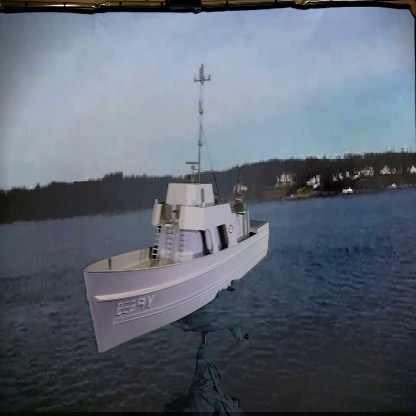YP689: (83, 67, 271, 350)
